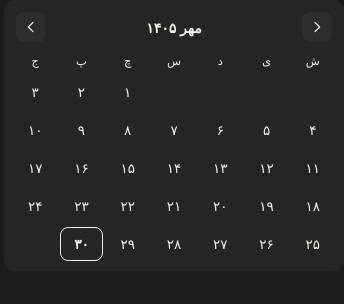
Test: JalaliCalendar › moves to the next month
Click the button named "ماه بعد" at (317, 27), box [302,12,332,42]
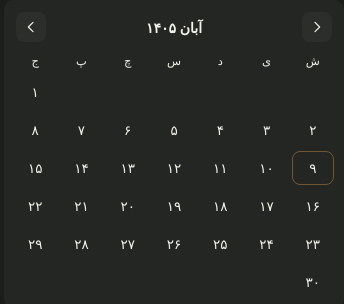
Result: the text "آبان ۱۴۰۵" is shown at [146,16,202,38]
